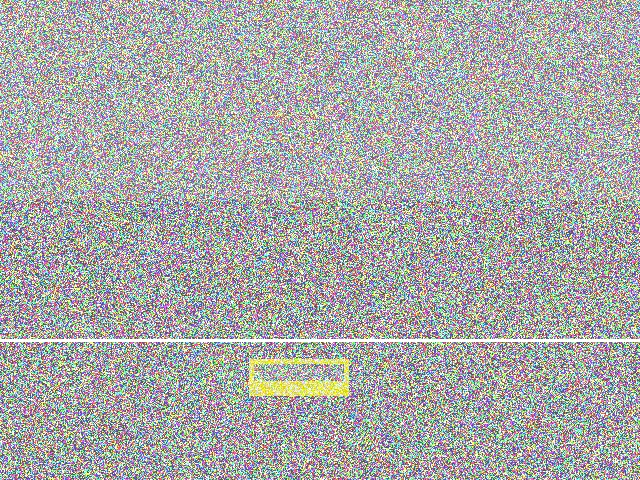bus: (464, 92, 542, 220)
car: (429, 216, 611, 290), (200, 380, 266, 480)
